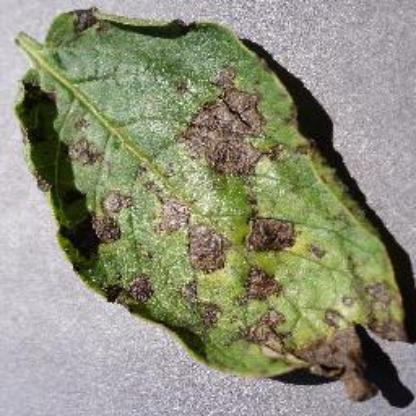Early-Blight: (13, 6, 412, 402)
